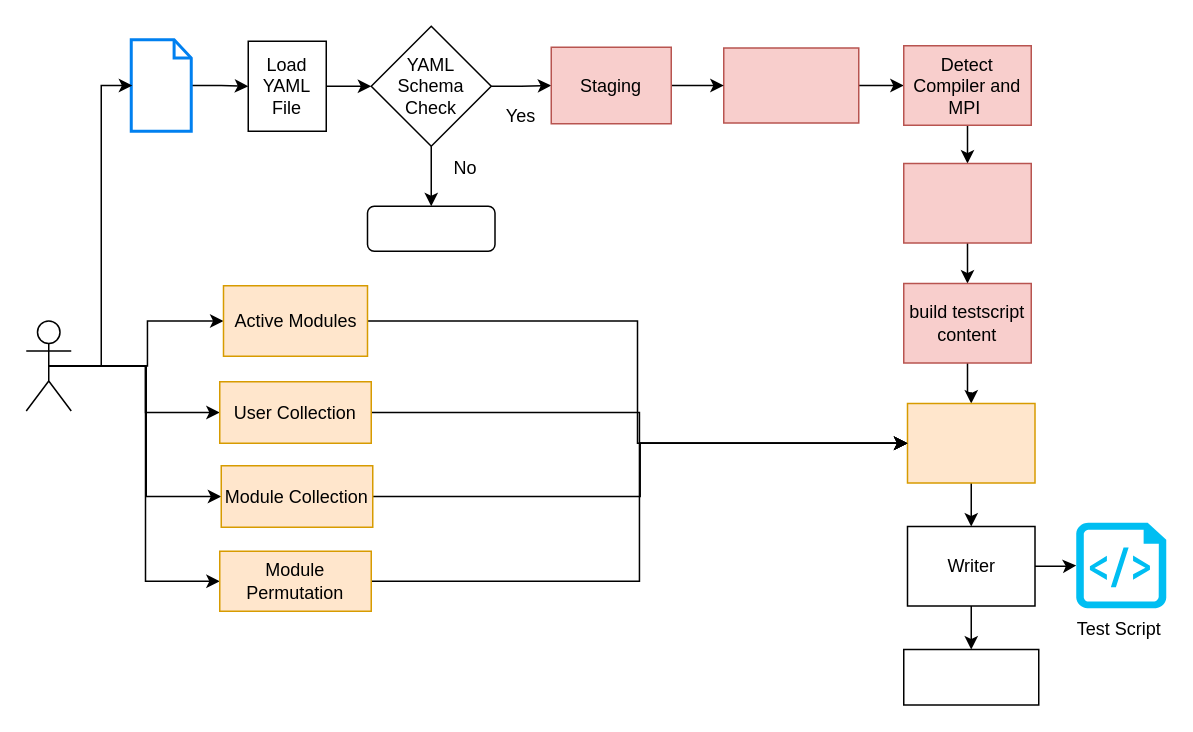
This 1193x732 diagram has some shape labels left out. Each missing label, with the centre of its shape:
build compile command: the point at 966,202
Detect Programming Language: the point at 790,84
Exit: the point at 430,228
Module Selector: the point at 970,442
Test Configuration: the point at 160,85
Update build.json: the point at 970,676
